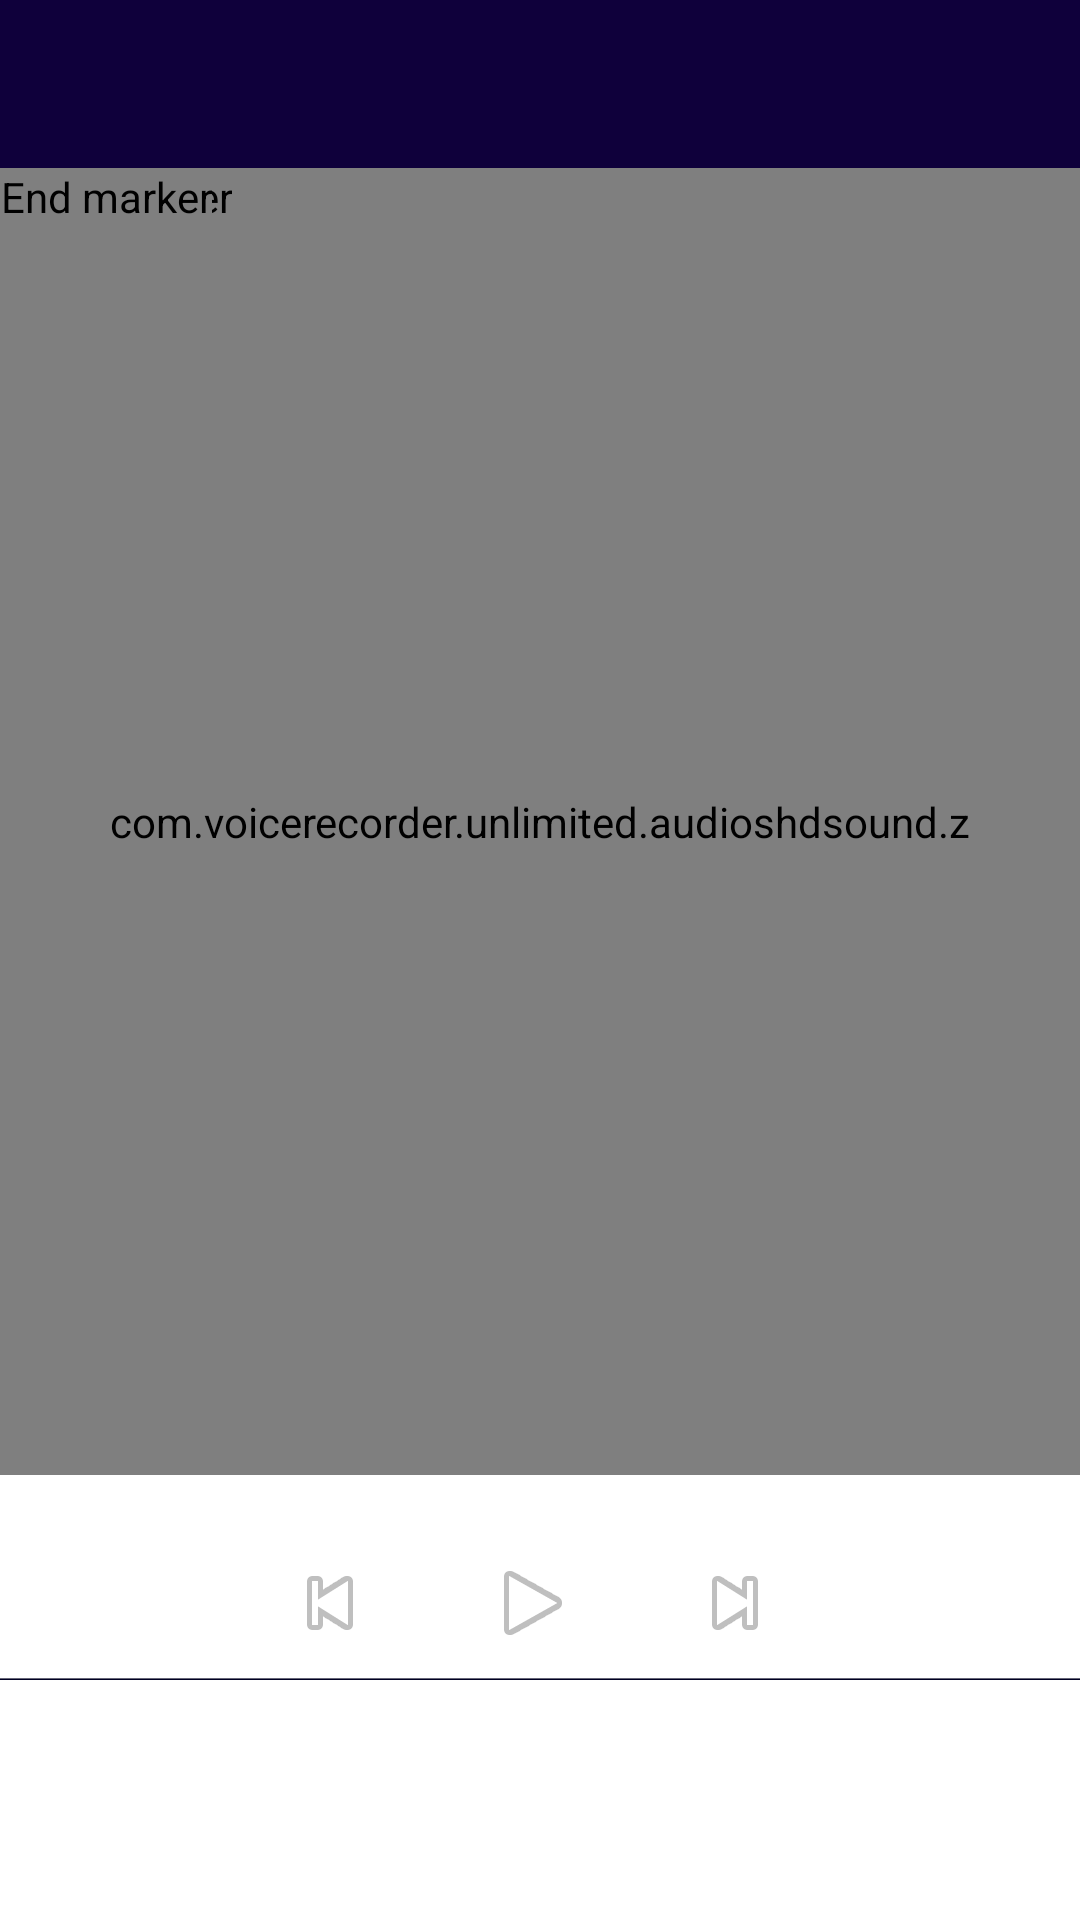

Where icons sit on this 1080*1920 app screen, as (x1, y1, x2, y2):
Fast forward: (712, 1576, 758, 1630)
Play: (504, 1571, 562, 1635)
Rewind: (307, 1576, 353, 1630)
